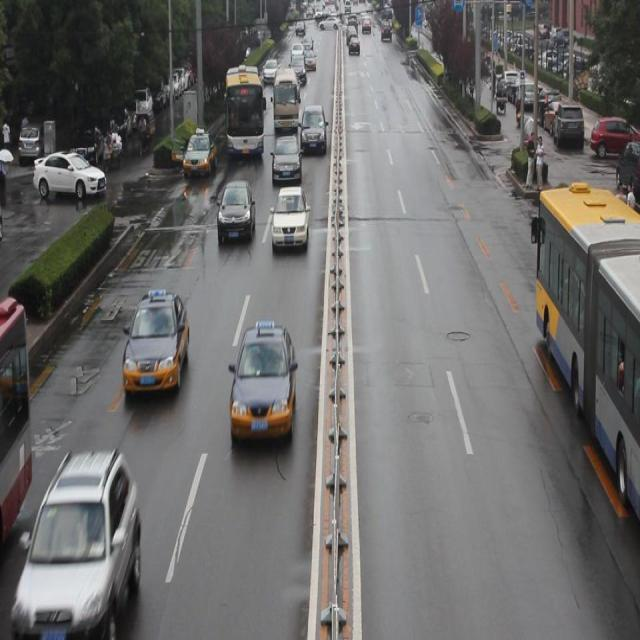car: (15, 448, 136, 634), (231, 321, 292, 445), (126, 293, 184, 394), (273, 184, 306, 257), (218, 180, 252, 241), (183, 134, 216, 184), (272, 135, 300, 185), (300, 104, 326, 156)
truck: (273, 67, 299, 130)
van: (531, 183, 640, 519), (225, 67, 263, 157)
